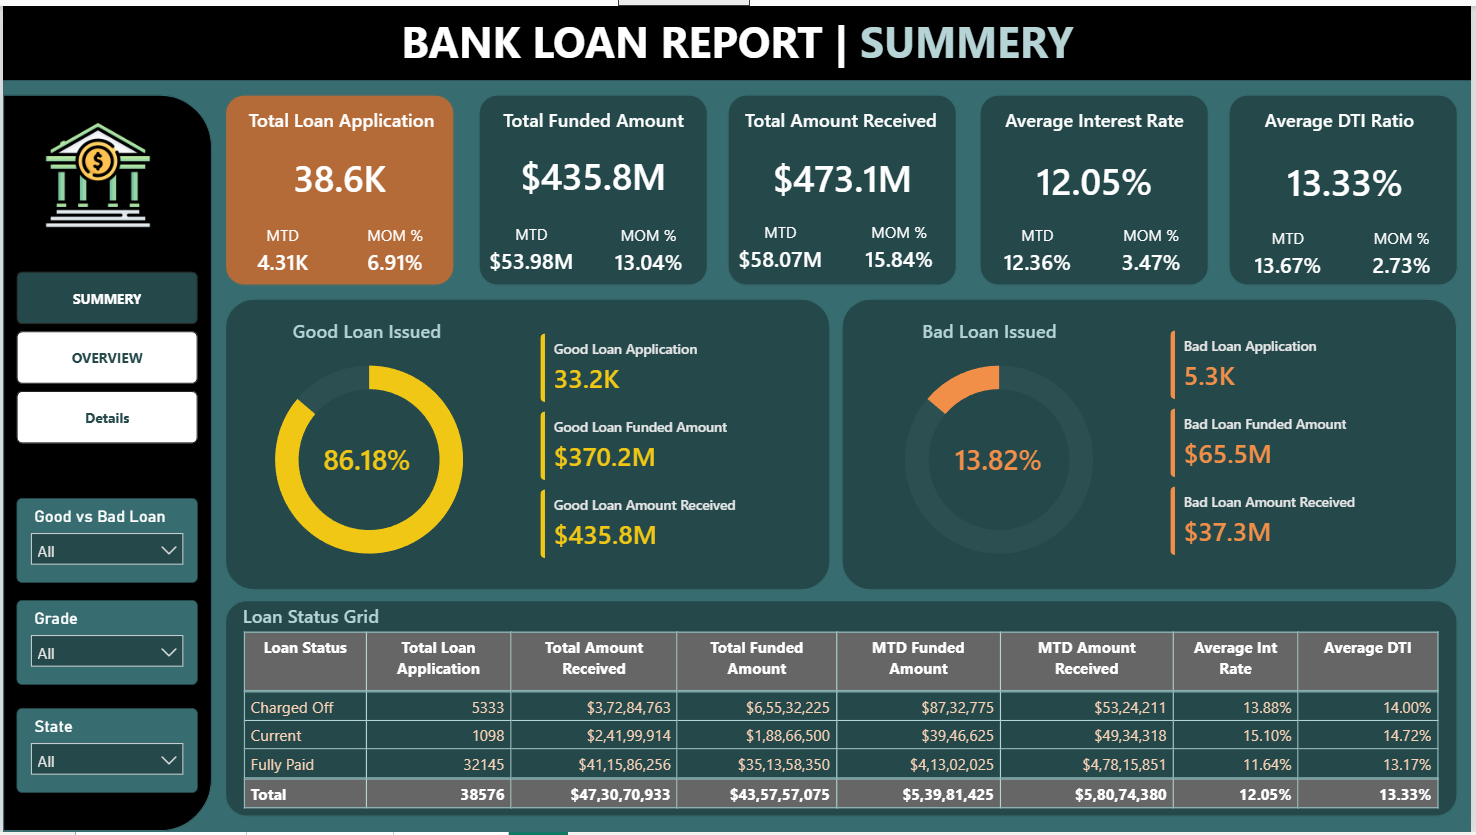

The page's visual inventory and layout, read from the dashboard file:
{"tool":"powerbi","page":{"name":"SUMMERY","canvas":[1280,720],"ordinal":0},"visuals":[{"type":"group","id":"g1","title":"Group 1","box":[0,0,1280,720],"z":0},{"type":"textbox","box":[0,0,1280,64.4],"z":0,"group":"g1"},{"type":"shape","box":[0,77.8,182.2,642.2],"z":1000,"group":"g1"},{"type":"cardVisual","fields":{"Data":["KPIs.Total Loan Application"]},"box":[193.3,116.7,200,62.2],"z":1000},{"type":"textbox","box":[203.3,82.2,182.2,34.4],"z":2000},{"type":"shape","box":[193.3,517.8,1074.4,188.9],"z":2000,"group":"g1"},{"type":"textbox","box":[423.3,82.2,182.2,34.4],"z":3000},{"type":"shape","box":[193.3,254.4,527.8,254.4],"z":3000,"group":"g1"},{"type":"textbox","box":[640,82.2,182.2,34.4],"z":4000},{"type":"shape","box":[731.1,254.4,536.7,254.4],"z":4000,"group":"g1"},{"type":"shape","box":[193.3,77.8,200,166.7],"z":5000,"group":"g1"},{"type":"textbox","box":[860,82.2,182.2,34.4],"z":5000},{"type":"shape","box":[414.4,77.8,200,166.7],"z":6000,"group":"g1"},{"type":"textbox","box":[1076.7,82.2,182.2,34.4],"z":6000},{"type":"shape","box":[631.1,77.8,200,166.7],"z":7000,"group":"g1"},{"type":"cardVisual","fields":{"Data":["KPIs.MTD Loan Application"]},"box":[194.4,182.2,98.9,62.2],"z":7000},{"type":"shape","box":[851.1,77.8,200,166.7],"z":8000,"group":"g1"},{"type":"cardVisual","fields":{"Data":["KPIs.MOM % Loan Application"]},"box":[293.3,182.2,98.9,62.2],"z":8000},{"type":"shape","box":[1067.8,77.8,200,166.7],"z":9000,"group":"g1"},{"type":"cardVisual","fields":{"Data":["KPIs.Total Funded Amount"]},"box":[414.3,115.7,200,62.2],"z":9000},{"type":"cardVisual","fields":{"Data":["KPIs.MTD Funded Amount"]},"box":[406,181,108,62],"z":10000},{"type":"cardVisual","fields":{"Data":["KPIs.Good Loan Application","KPIs.Good Loan Funded Amount","KPIs.Good Loan Amount Received"]},"box":[451.1,267.6,256,230],"z":10000,"group":"g1"},{"type":"cardVisual","fields":{"Data":["KPIs.MOM % Funded Amount"]},"box":[514.3,181.2,98.9,62.2],"z":11000},{"type":"donutChart","fields":{"Category":["financial_loan.Good vs Bad Loan"],"Y":["KPIs.Total Loan Application"]},"box":[194.2,288.2,247.9,214.8],"z":11000,"group":"g1"},{"type":"donutChart","fields":{"Category":["financial_loan.Good vs Bad Loan"],"Y":["KPIs.Total Loan Application"]},"box":[743.8,288.2,247.9,214.8],"z":12000},{"type":"cardVisual","fields":{"Data":["KPIs.Total Amount Received"]},"box":[631,116,200,62],"z":13000},{"type":"cardVisual","fields":{"Data":["KPIs.MTD Amount Received"]},"box":[624,179,108,62],"z":14000},{"type":"cardVisual","fields":{"Data":["KPIs.MOM % Received Amount"]},"box":[732.3,179.2,98.9,62.2],"z":15000},{"type":"cardVisual","fields":{"Data":["KPIs.Average Int Rate"]},"box":[851,119,200,62],"z":16000},{"type":"cardVisual","fields":{"Data":["KPIs.MTD Int Rate"]},"box":[851,182,101,62],"z":17000},{"type":"cardVisual","fields":{"Data":["KPIs.MOM % Int rate"]},"box":[952.3,182.2,98.9,62.2],"z":18000},{"type":"cardVisual","fields":{"Data":["KPIs.Average DTI"]},"box":[1069.6,120.9,200,62],"z":19000},{"type":"cardVisual","fields":{"Data":["KPIs.MTD DTI"]},"box":[1069.6,183.9,101,62],"z":20000},{"type":"cardVisual","fields":{"Data":["KPIs.MOM % DTI"]},"box":[1170.9,184.2,98.9,62.2],"z":21000},{"type":"cardVisual","fields":{"Data":["KPIs.Bad Loan Application","KPIs.Bad Loan Funded Amount","KPIs.Bad Loan Amount Received"]},"box":[999.8,265.8,256,230],"z":22000},{"type":"cardVisual","fields":{"Data":["KPIs.Good Loan %"]},"box":[251.4,364.1,132.2,61.9],"z":23000},{"type":"textbox","box":[226.4,266.2,182.1,34.2],"z":24000},{"type":"textbox","box":[768.9,266.2,182.1,34.2],"z":25000},{"type":"cardVisual","fields":{"Data":["KPIs.Bad Loan %"]},"box":[801.3,364.1,132.2,61.9],"z":26000},{"type":"tableEx","fields":{"Values":["financial_loan.loan_status","KPIs.Total Loan Application","KPIs.Total Amount Received","KPIs.Total Funded Amount","KPIs.MTD Funded Amount","KPIs.MTD Amount Received","KPIs.Average Int Rate","KPIs.Average DTI"]},"box":[203.3,540.6,1052.6,165.4],"z":27000},{"type":"textbox","box":[203.3,515.7,182.1,34.2],"z":28000},{"type":"image","box":[27.7,98.9,110.9,96.1],"z":29000},{"type":"slicer","fields":{"Values":["financial_loan.Good vs Bad Loan"]},"box":[12,428.8,158,73.9],"z":30000},{"type":"slicer","fields":{"Values":["financial_loan.grade"]},"box":[12,517.5,158,73.9],"z":31000},{"type":"slicer","fields":{"Values":["financial_loan.address_state"]},"box":[12,611.8,158,73.9],"z":32000},{"type":"pageNavigator","box":[12,232,158,151],"z":32001}]}

Visuals, with their boxes in screenshot pixels (x1, y1, x2, y2), scaled from the page's 1280x720 canvas onto the 1476x835 screenshot:
"Group 1" group: (0, 0, 1475, 834)
textbox: (0, 0, 1475, 75)
shape: (0, 90, 210, 834)
cardVisual - KPIs.Total Loan Application: (223, 135, 454, 207)
textbox: (234, 95, 445, 135)
shape: (223, 601, 1462, 820)
textbox: (488, 95, 698, 135)
shape: (223, 295, 832, 590)
textbox: (738, 95, 948, 135)
shape: (843, 295, 1462, 590)
shape: (223, 90, 454, 284)
textbox: (992, 95, 1202, 135)
shape: (478, 90, 708, 284)
textbox: (1242, 95, 1452, 135)
shape: (728, 90, 958, 284)
cardVisual - KPIs.MTD Loan Application: (224, 211, 338, 283)
shape: (981, 90, 1212, 284)
cardVisual - KPIs.MOM % Loan Application: (338, 211, 452, 283)
shape: (1231, 90, 1462, 284)
cardVisual - KPIs.Total Funded Amount: (478, 134, 708, 206)
cardVisual - KPIs.MTD Funded Amount: (468, 210, 593, 282)
cardVisual - KPIs.Good Loan Application x KPIs.Good Loan Funded Amount: (520, 310, 815, 577)
cardVisual - KPIs.MOM % Funded Amount: (593, 210, 707, 282)
donutChart - financial_loan.Good vs Bad Loan x KPIs.Total Loan Application: (224, 334, 510, 583)
donutChart - financial_loan.Good vs Bad Loan x KPIs.Total Loan Application: (858, 334, 1144, 583)
cardVisual - KPIs.Total Amount Received: (728, 135, 958, 206)
cardVisual - KPIs.MTD Amount Received: (720, 208, 844, 279)
cardVisual - KPIs.MOM % Received Amount: (844, 208, 958, 280)
cardVisual - KPIs.Average Int Rate: (981, 138, 1212, 210)
cardVisual - KPIs.MTD Int Rate: (981, 211, 1098, 283)
cardVisual - KPIs.MOM % Int rate: (1098, 211, 1212, 283)
cardVisual - KPIs.Average DTI: (1233, 140, 1464, 212)
cardVisual - KPIs.MTD DTI: (1233, 213, 1350, 285)
cardVisual - KPIs.MOM % DTI: (1350, 214, 1464, 286)
cardVisual - KPIs.Bad Loan Application x KPIs.Bad Loan Funded Amount: (1153, 308, 1448, 575)
cardVisual - KPIs.Good Loan %: (290, 422, 442, 494)
textbox: (261, 309, 471, 348)
textbox: (887, 309, 1097, 348)
cardVisual - KPIs.Bad Loan %: (924, 422, 1076, 494)
tableEx - financial_loan.loan_status x KPIs.Total Loan Application: (234, 627, 1448, 819)
textbox: (234, 598, 444, 638)
image: (32, 115, 160, 226)
slicer - financial_loan.Good vs Bad Loan: (14, 497, 196, 583)
slicer - financial_loan.grade: (14, 600, 196, 686)
slicer - financial_loan.address_state: (14, 710, 196, 795)
pageNavigator: (14, 269, 196, 444)
